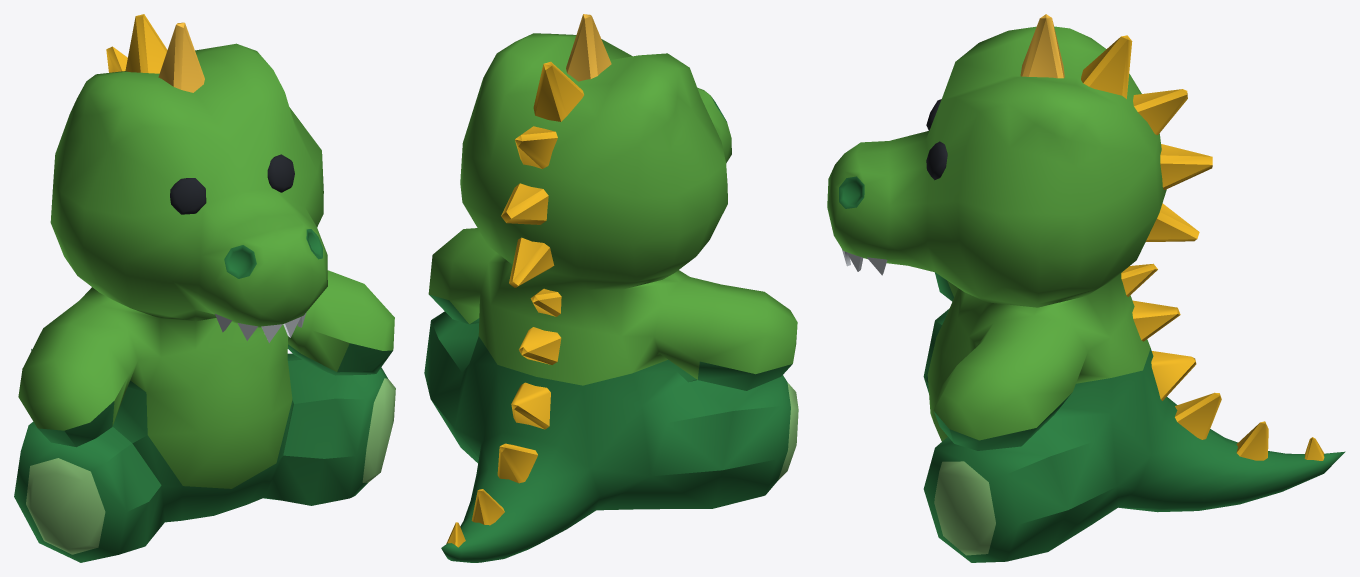
The model's file is pelucia_crocodilo_pacote.glb.
3 renders of one model, left to right at view 1: azimuth 30°, elevation 25°; view 2: azimuth 150°, elevation 25°; view 3: azimuth 270°, elevation 25°, orthographic. The views are drawn at different scales.
Parts seen in each view (by area): view 1: pelucia_crocodilo_pacote; view 2: pelucia_crocodilo_pacote; view 3: pelucia_crocodilo_pacote.
Boxes of the visible parts, x1=… form: pelucia_crocodilo_pacote: x1=14, y1=14, x2=395, y2=562; pelucia_crocodilo_pacote: x1=424, y1=14, x2=798, y2=562; pelucia_crocodilo_pacote: x1=827, y1=14, x2=1345, y2=562.
Size of the model in its own units: 0.3281 by 0.4229 by 0.4052.
Materials: 1 (1 with a texture image).
